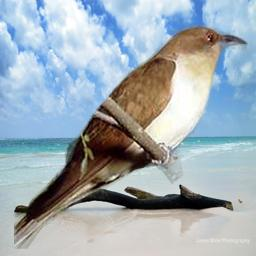Cuckoo: (14, 23, 248, 249)
